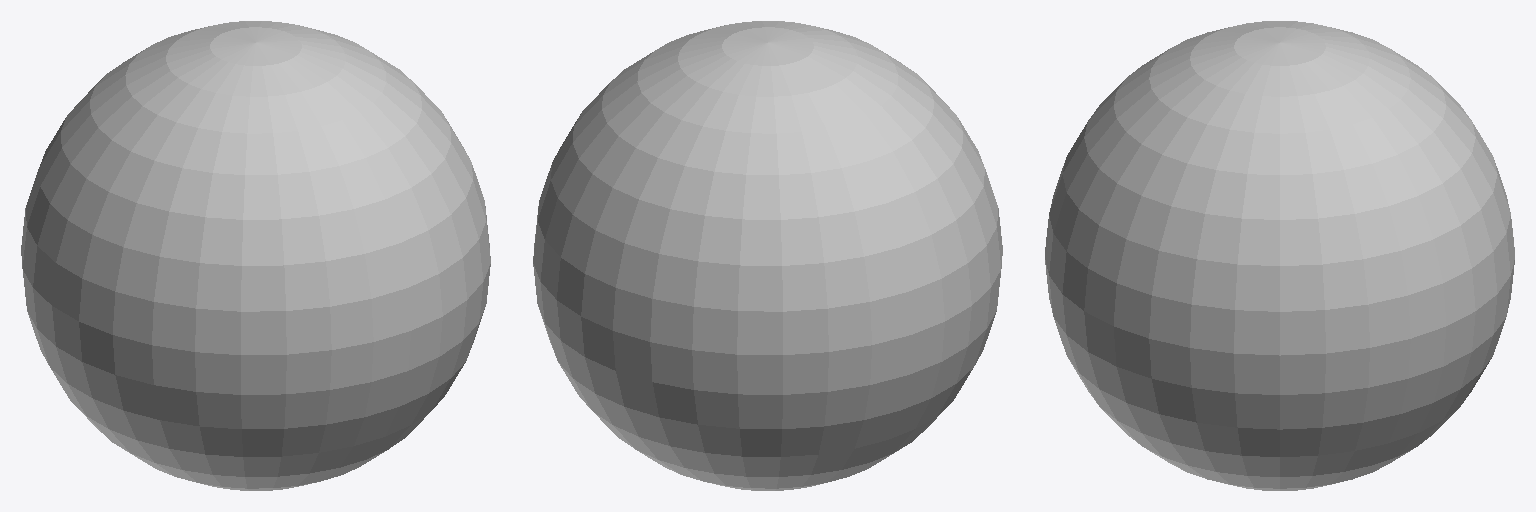
Rendered from marte.obj.
The picture shows the model from 3 angles: view 1: azimuth 30°, elevation 25°; view 2: azimuth 150°, elevation 25°; view 3: azimuth 270°, elevation 25°; orthographic projection.
Visible parts, largest first — view 1: Sphere.005_Material.006_0; view 2: Sphere.005_Material.006_0; view 3: Sphere.005_Material.006_0.
Boxes of the visible parts, <box> form: Sphere.005_Material.006_0: <box>21,21,490,490</box>; Sphere.005_Material.006_0: <box>533,21,1002,490</box>; Sphere.005_Material.006_0: <box>1045,21,1514,490</box>.
Bounding box in the file's own units: 1.21 × 1.21 × 1.21.